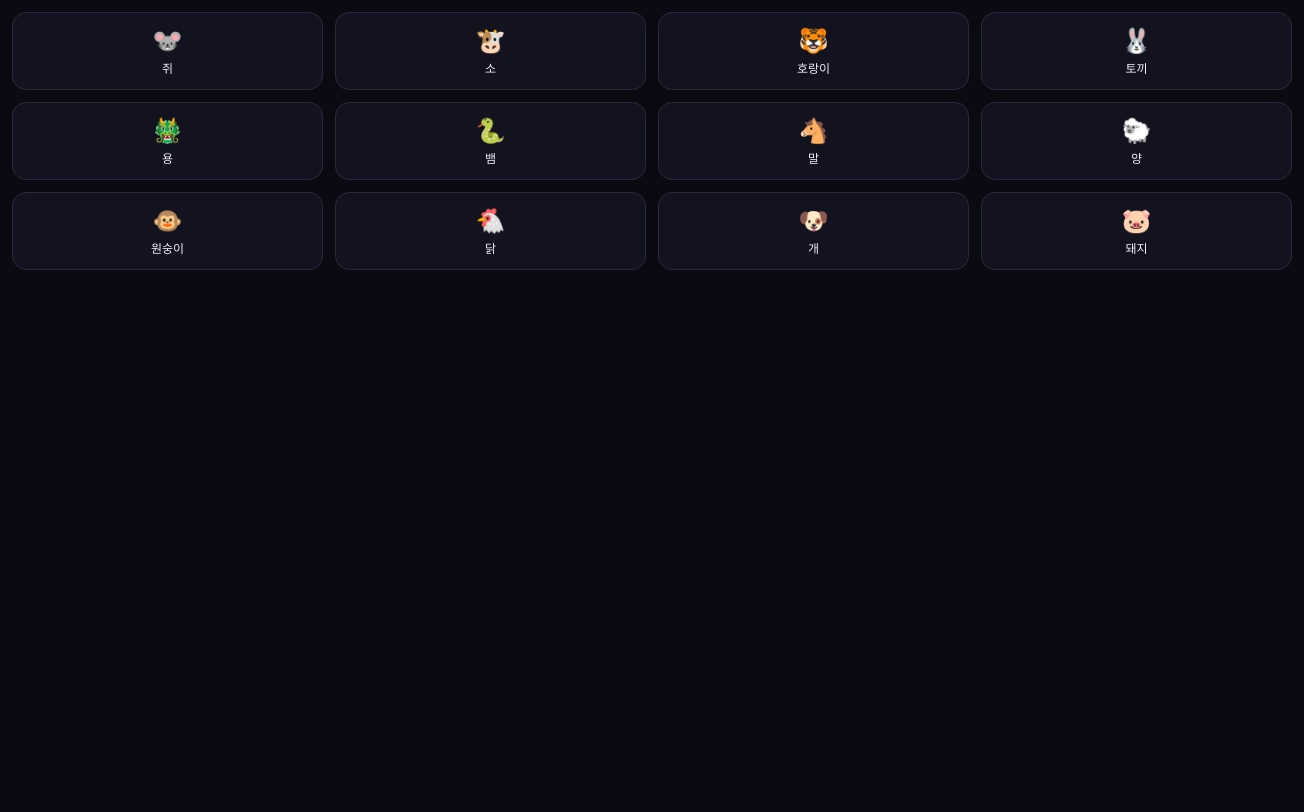
ChineseZodiacSelector › 다른 버튼 클릭 시 이전 운세가 사라지고 새 운세가 표시된다
What coordinates should you click on to do the following:
click the button "🐭 쥐"
I would click on:
 (168, 51)
Its box is [12,12,323,90].
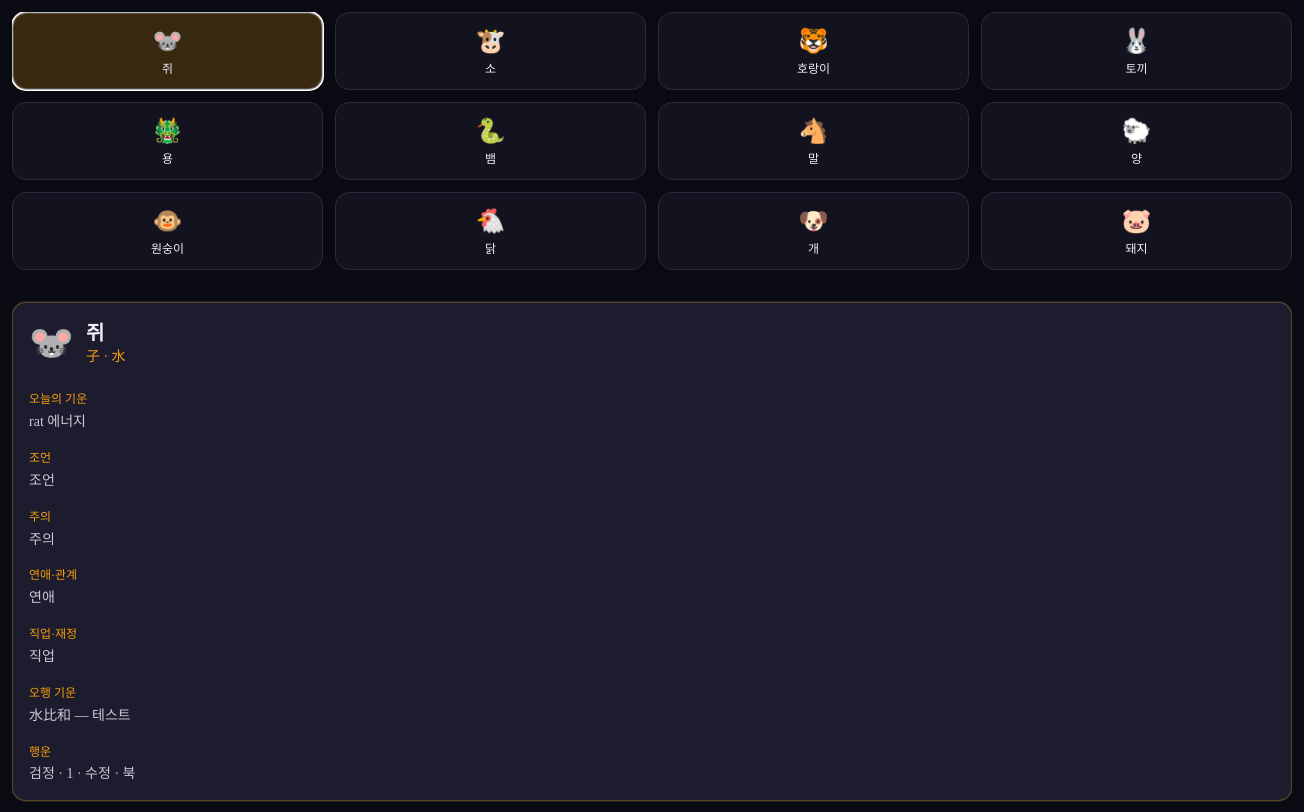
What coordinates should you click on to do the following:
click the button "🐮 소"
I would click on:
 (490, 51)
Its box is [335,12,646,90].
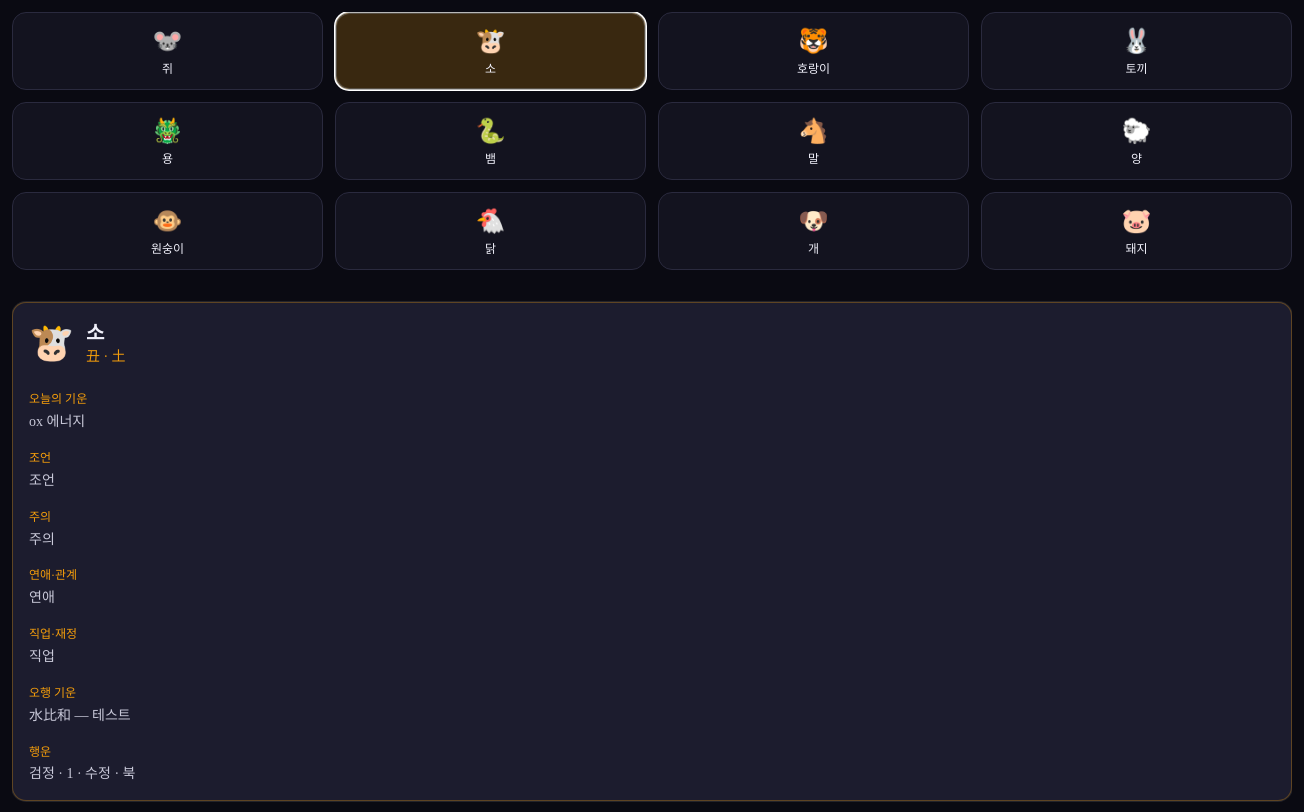
Result: the text "rat 에너지" is gone
Result: the text "ox 에너지" is shown at [29,414,85,429]
